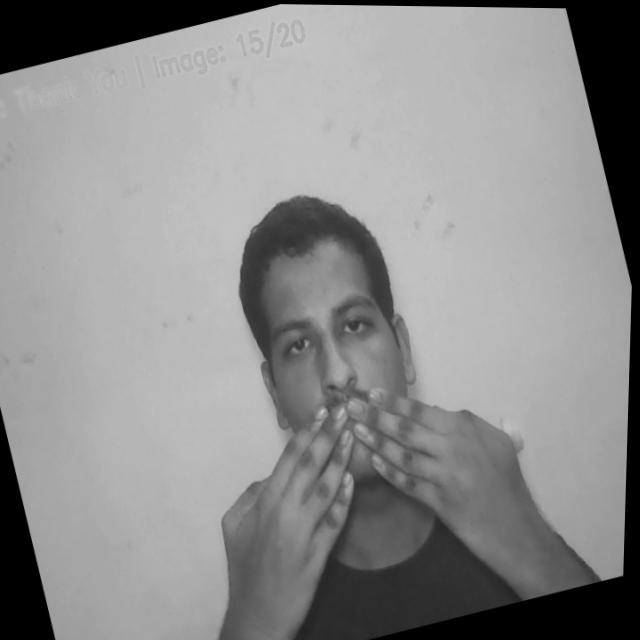Thank You: (195, 354, 557, 640)
